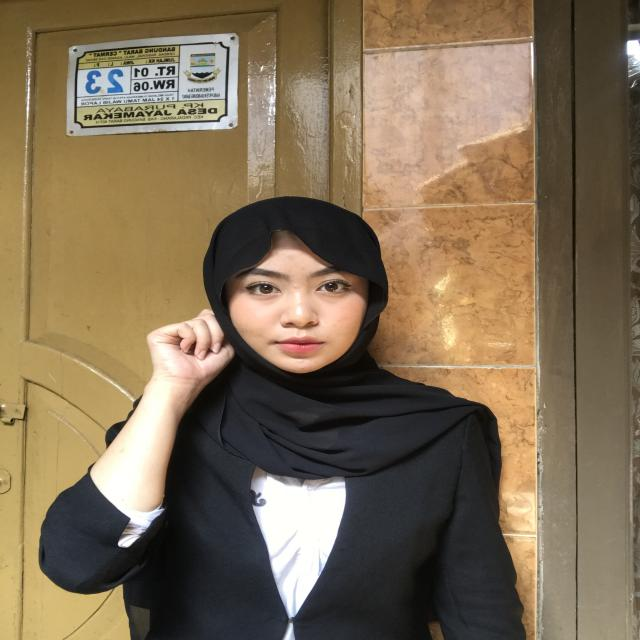ibu: (110, 296, 262, 411)
